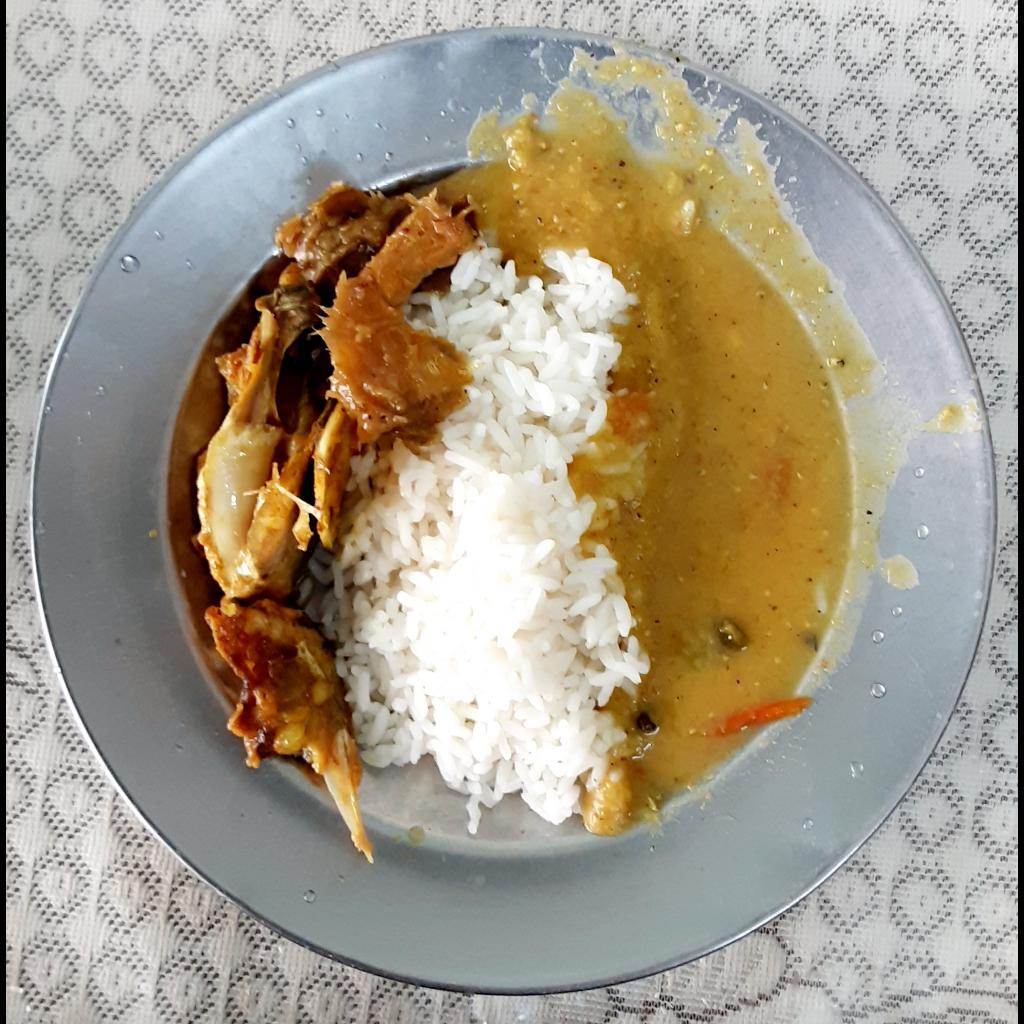beef: (195, 177, 478, 862)
daal: (421, 82, 855, 833)
rice: (300, 238, 648, 838)
